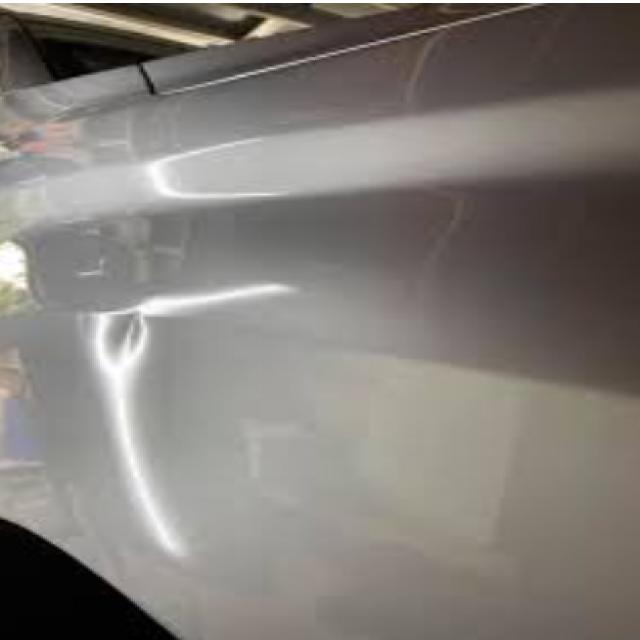dents: (83, 295, 161, 379)
